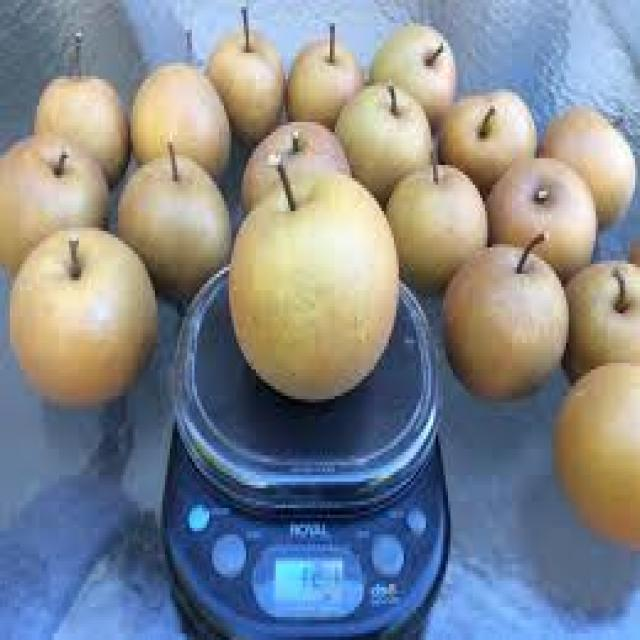pear: (229, 167, 401, 400), (10, 228, 158, 407), (446, 235, 571, 399), (337, 82, 433, 205)
